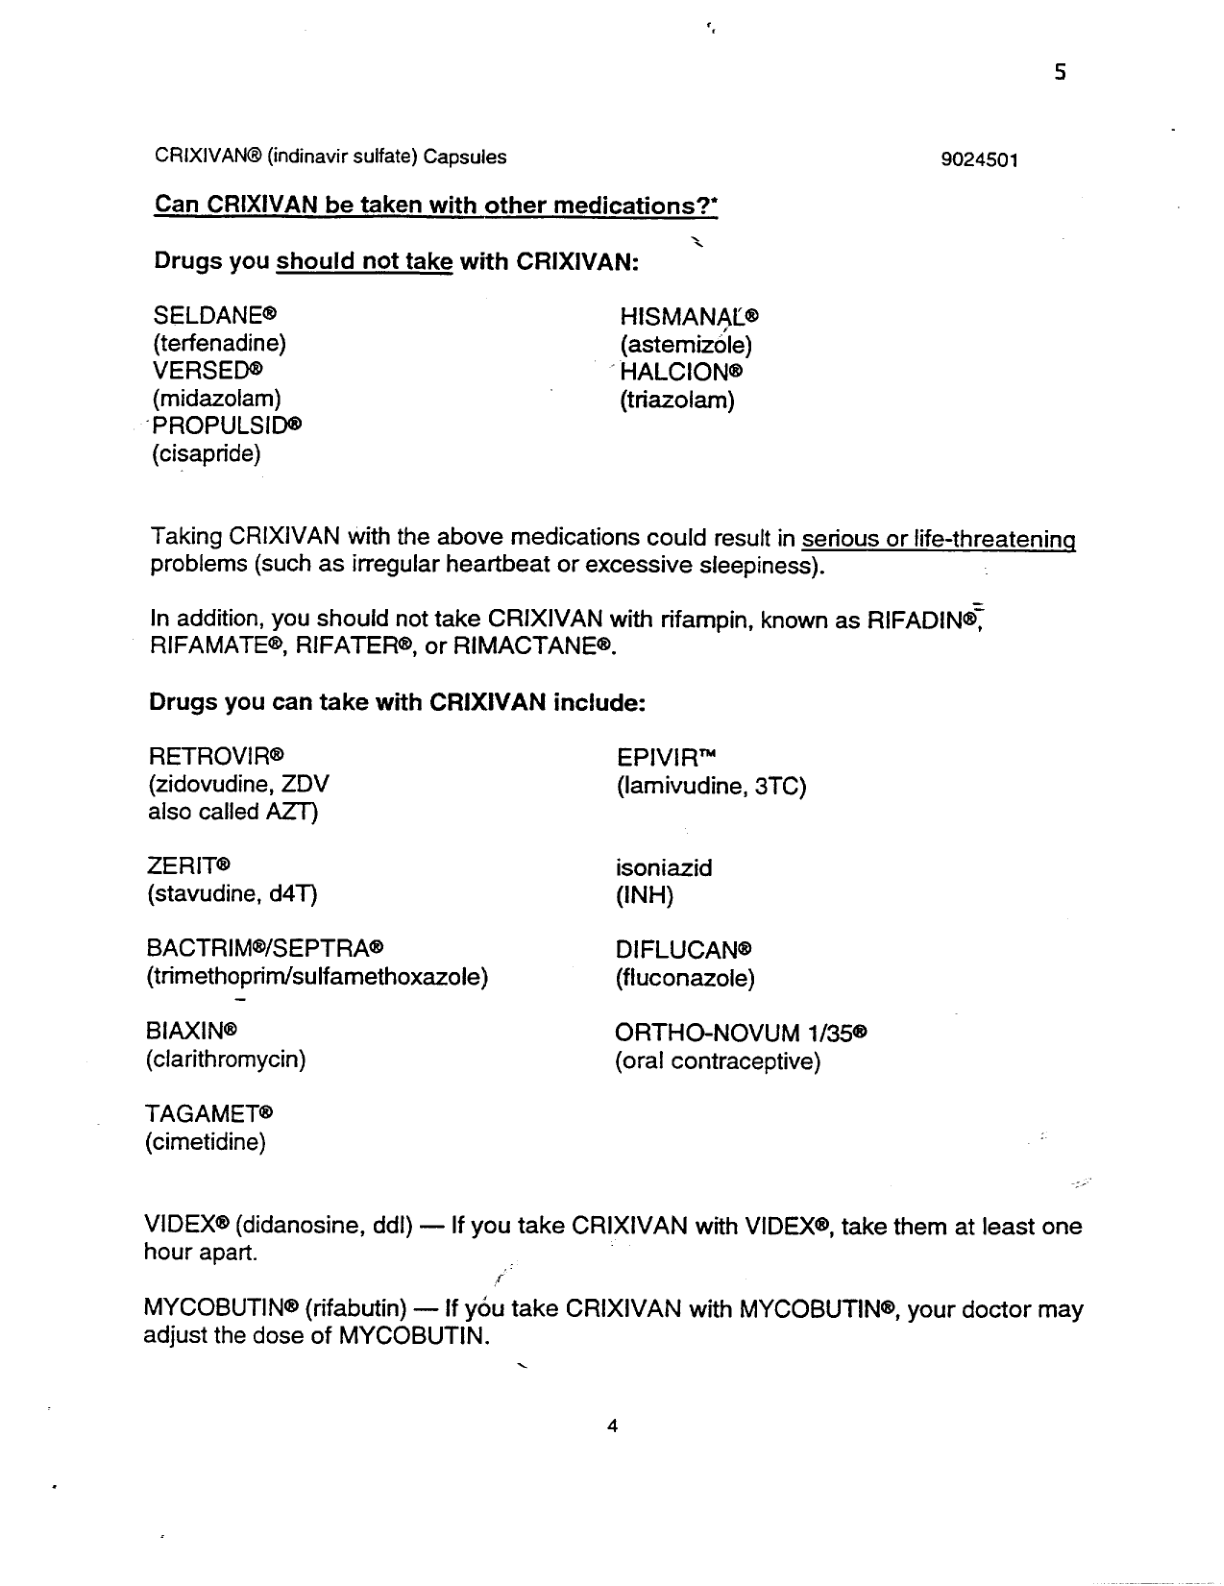nolines: (141, 742, 869, 1155), (147, 301, 764, 468)
